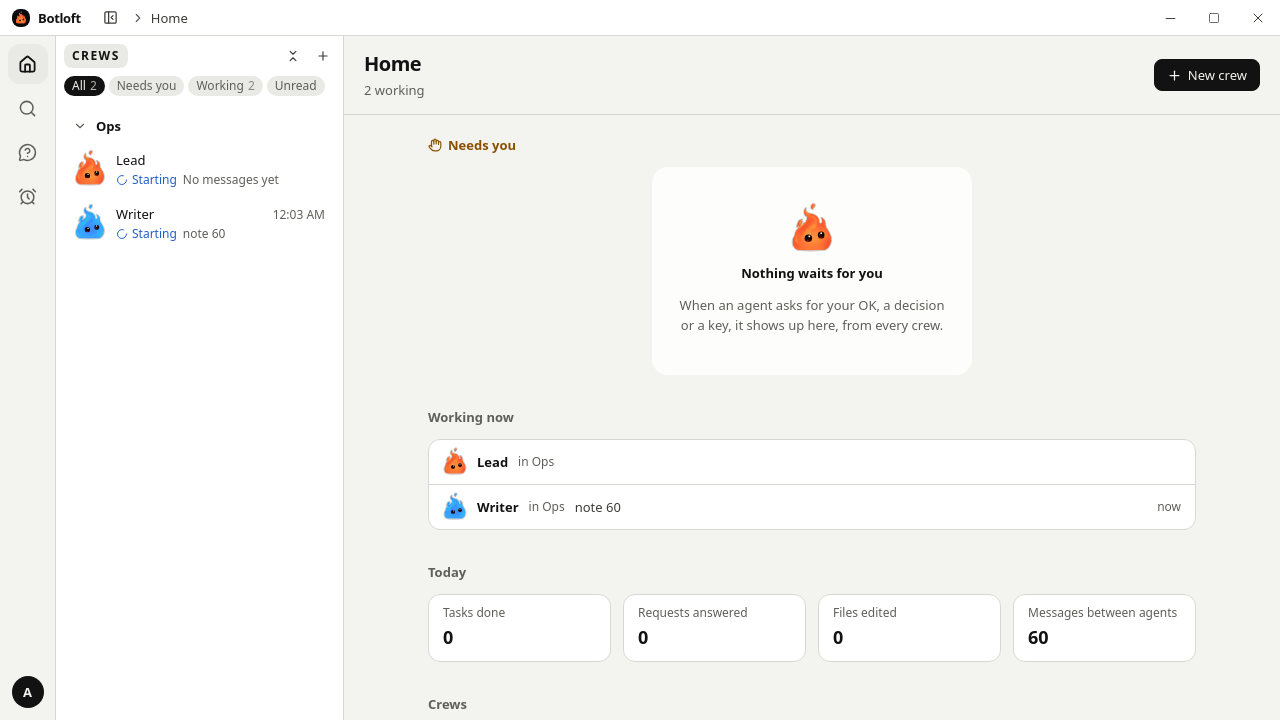
Test: messages › older messages load on demand
Click the button "Ops" at (109, 126), box [64,110,335,142]
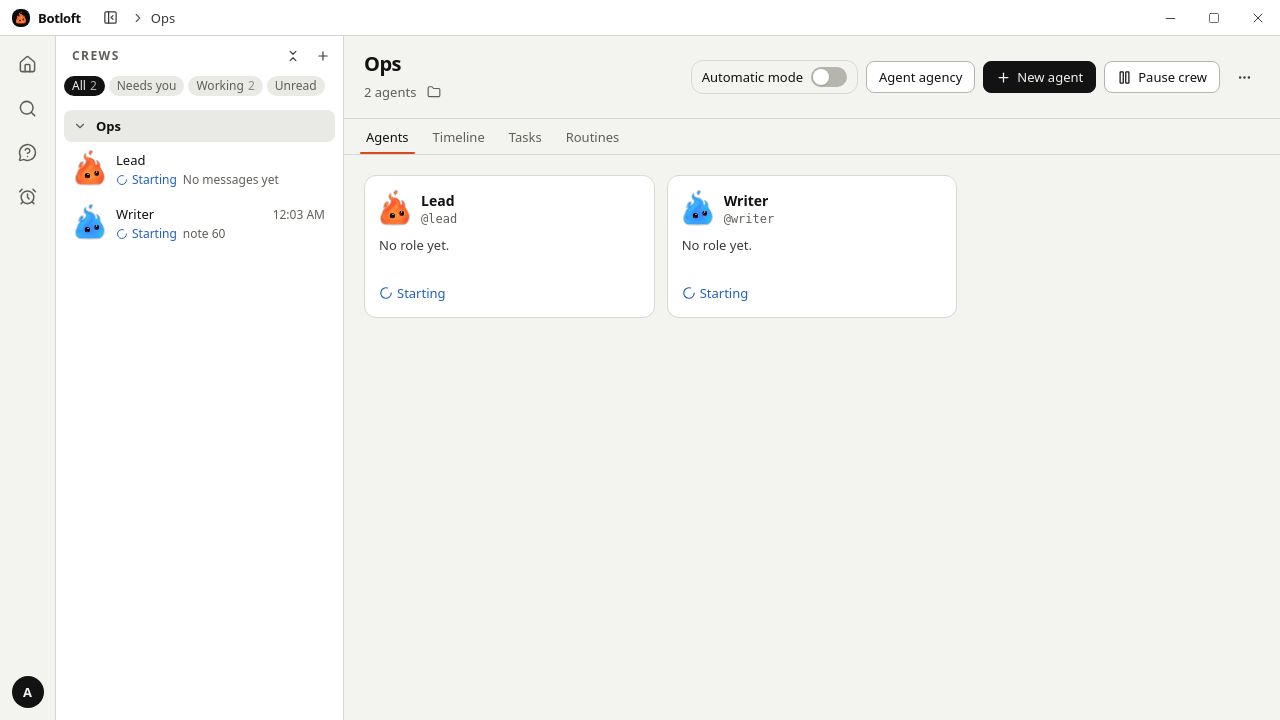
Click the tab "Timeline" at (459, 136), box [423,119,495,154]
(page scrolled)
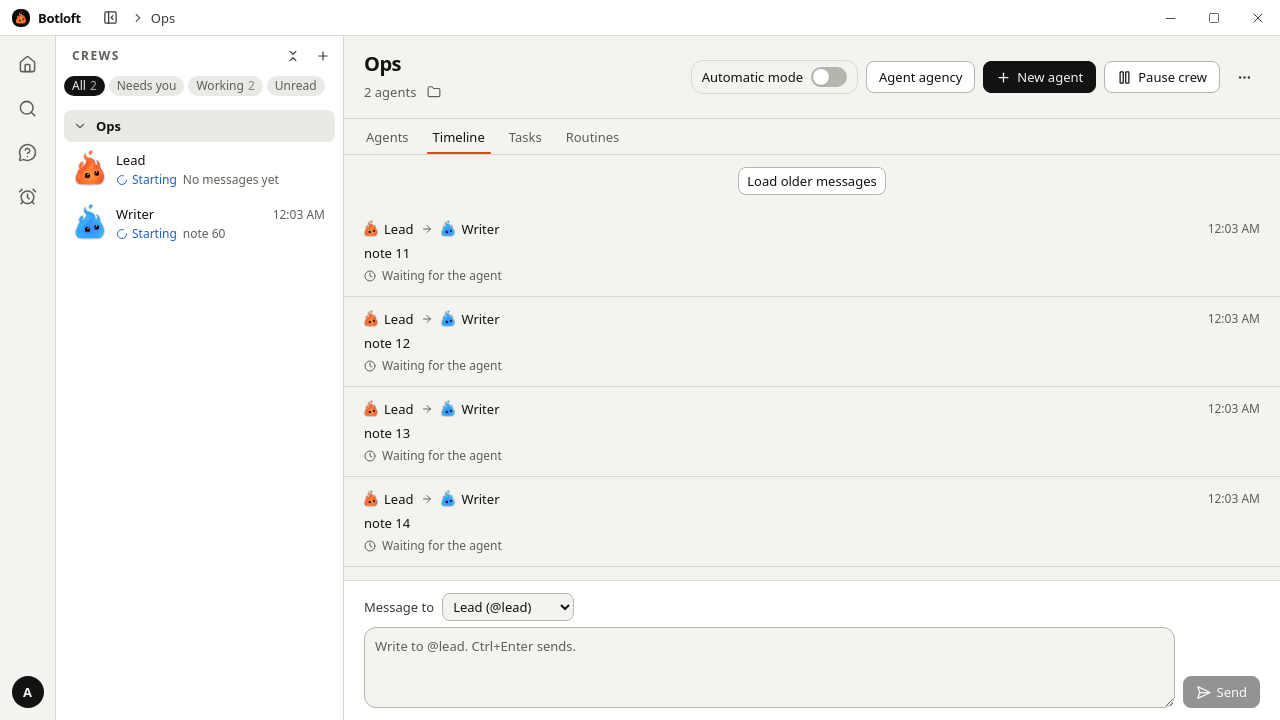
Click the button "Load older messages" at (812, 181), box [738,167,886,195]
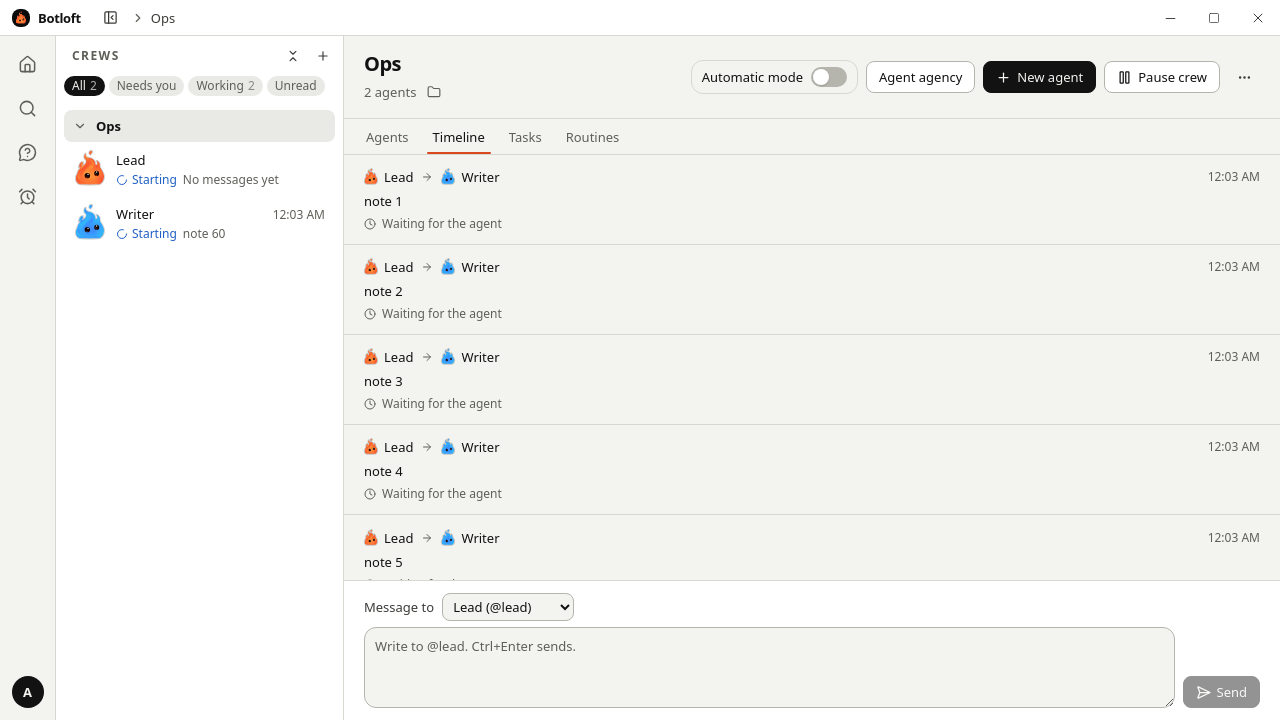
Now the text "note 1" is shown, box [364,192,403,210]
Now the button "Load older messages" is gone
